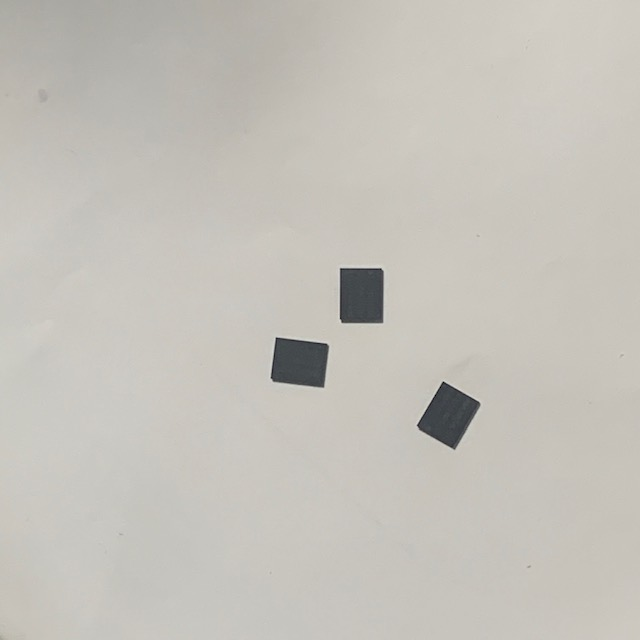IC: (415, 378, 484, 453), (268, 334, 334, 390), (336, 265, 388, 326)
